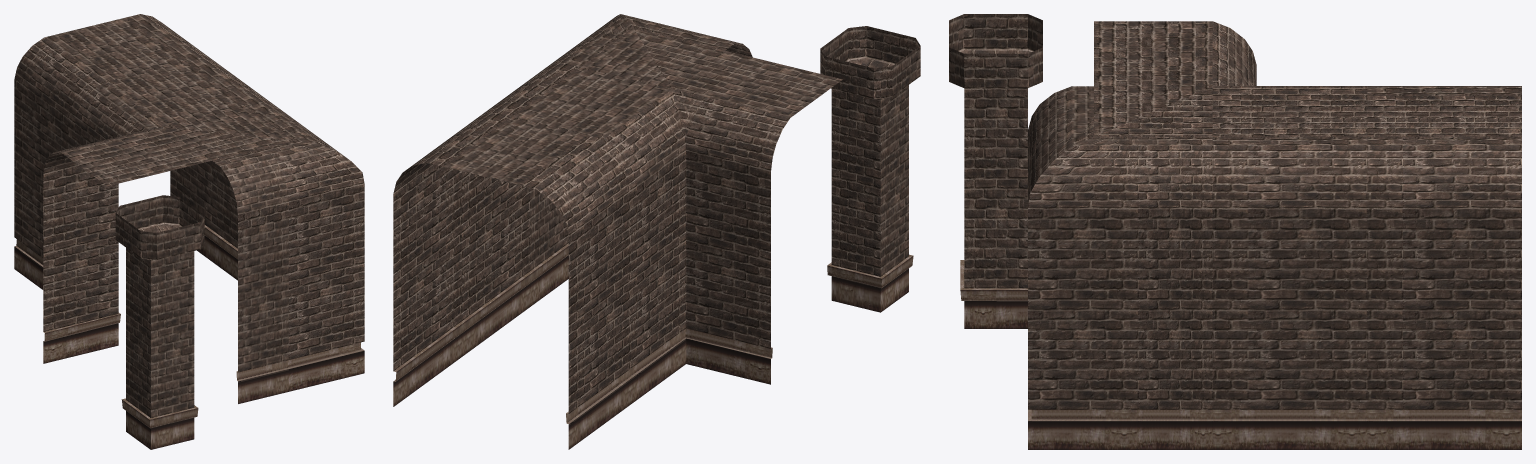
Rendered from underground.fbx.
3 views of the same model, side by side, from view 1: azimuth 30°, elevation 25°; view 2: azimuth 150°, elevation 25°; view 3: azimuth 270°, elevation 25° (orthographic). The views are drawn at different scales.
Visible parts, largest first — view 1: underground_ugol, underground_colonel, underground_ugol_inside, underground_wall.001, underground_wall.002, underground_top.001, underground_top, underground_top.002, underground_wall; view 2: underground_ugol_inside, underground_colonel, underground_wall.001, underground_wall.002, underground_wall, underground_ugol, underground_top, underground_top.001, underground_top.002; view 3: underground_ugol, underground_wall, underground_wall.002, underground_colonel, underground_top.001, underground_top, underground_top.002, underground_ugol_inside, underground_wall.001.
Boxes of the visible parts, bbox=[...] form: underground_ugol: bbox=[165, 103, 364, 403]; underground_colonel: bbox=[115, 195, 204, 449]; underground_ugol_inside: bbox=[43, 82, 164, 363]; underground_wall.001: bbox=[14, 33, 119, 289]; underground_wall.002: bbox=[125, 14, 230, 275]; underground_top.001: bbox=[105, 62, 246, 126]; underground_top: bbox=[61, 126, 211, 186]; underground_top.002: bbox=[60, 18, 185, 78]; underground_wall: bbox=[186, 58, 281, 280]; underground_ugol_inside: bbox=[604, 89, 789, 399]; underground_colonel: bbox=[820, 26, 920, 312]; underground_wall.001: bbox=[518, 135, 637, 449]; underground_wall.002: bbox=[393, 112, 511, 406]; underground_wall: bbox=[462, 62, 580, 356]; underground_ugol: bbox=[530, 14, 752, 306]; underground_top: bbox=[673, 50, 842, 117]; underground_top.001: bbox=[513, 67, 672, 138]; underground_top.002: bbox=[444, 117, 585, 184]; underground_ugol: bbox=[1028, 86, 1212, 449]; underground_wall: bbox=[1212, 136, 1367, 449]; underground_wall.002: bbox=[1367, 136, 1521, 449]; underground_colonel: bbox=[949, 14, 1042, 328]; underground_top.001: bbox=[1212, 86, 1367, 137]; underground_top: bbox=[1094, 21, 1212, 86]; underground_top.002: bbox=[1367, 96, 1521, 136]; underground_ugol_inside: bbox=[1212, 21, 1367, 86]; underground_wall.001: bbox=[1367, 86, 1521, 95].
Bounding box in the file's own units: 661 × 1035 × 569.
